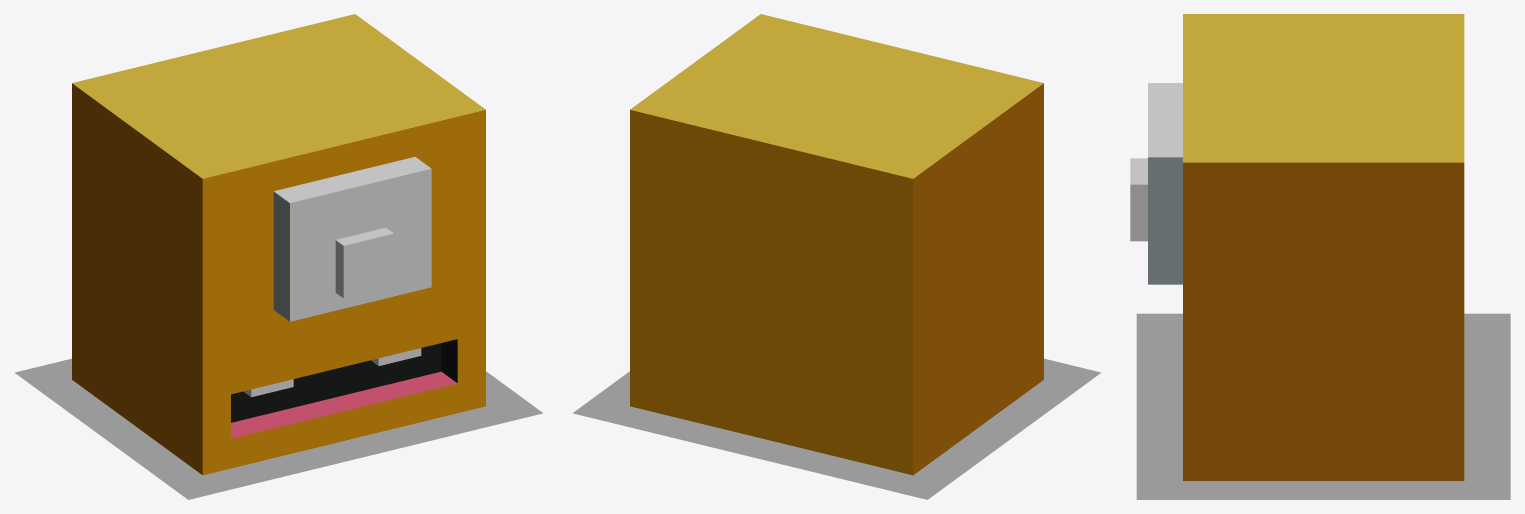
File: EN_MrBit_Yellow.fbx
3 views of the same model, side by side, from view 1: azimuth 30°, elevation 25°; view 2: azimuth 150°, elevation 25°; view 3: azimuth 270°, elevation 25° (orthographic). The views are drawn at different scales.
Parts seen in each view (by area): view 1: Body, Eye, Shadow, Mouth, Pupil; view 2: Body, Shadow; view 3: Body, Shadow, Eye, Pupil.
Part boxes in pixels (x1,y1,x2,y2): Body: (72, 14, 485, 475); Eye: (273, 157, 431, 321); Shadow: (15, 358, 542, 499); Mouth: (231, 371, 457, 468); Pupil: (335, 227, 393, 298); Body: (630, 14, 1043, 475); Shadow: (573, 358, 1100, 499); Body: (1183, 14, 1464, 480); Shadow: (1136, 313, 1510, 499); Eye: (1148, 83, 1182, 284); Pupil: (1130, 158, 1147, 241).
Size of the model in its own units: 62.68 by 50 by 54.09.
